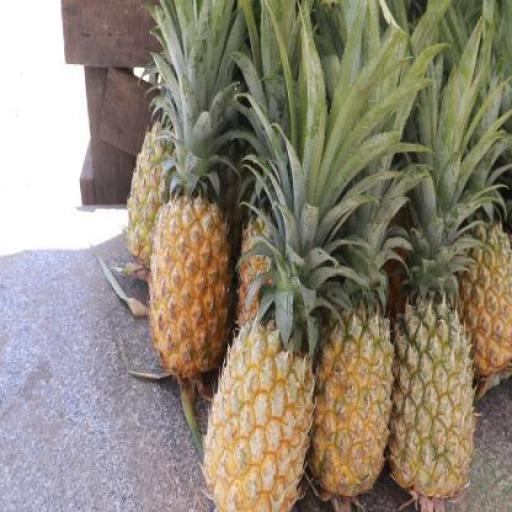------------------------------: (390, 302, 472, 499)
Pineapple - v8 v1: (206, 320, 308, 512), (312, 311, 394, 500), (148, 200, 225, 386), (458, 219, 512, 373)
